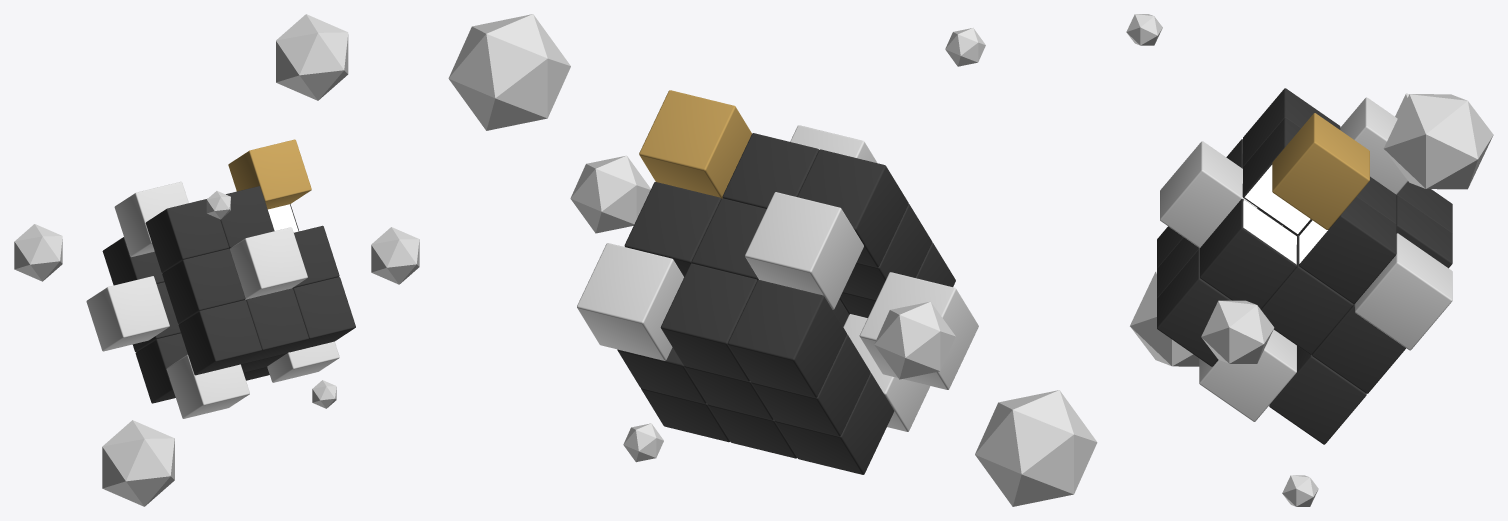
Rendered from app_scene.gltf.
3 renders of one model, left to right at view 1: azimuth 30°, elevation 25°; view 2: azimuth 150°, elevation 25°; view 3: azimuth 270°, elevation 25°, orthographic. The views are drawn at different scales.
Parts seen in each view (by area): view 1: ChamferBox184, Hedra001.002, Hedra001.004, ChamferBox187, ChamferBox183, ChamferBox182, ChamferBox185, ChamferBox188, Hedra001.001, Hedra001.005, ChamferBox186, Group60444 (+2 smaller); view 2: ChamferBox184, Hedra001.002, Hedra001.004, ChamferBox188, ChamferBox189, ChamferBox182, ChamferBox187, Hedra001.005, Hedra001.001, ChamferBox185, ChamferBox183, Hedra001 (+1 smaller); view 3: ChamferBox184, Hedra001.004, ChamferBox182, ChamferBox189, ChamferBox183, ChamferBox186, Group60444, Hedra001.001, ChamferBox188, Hedra001.002, Hedra001.003, Hedra001.
Part boxes in pixels (x1,y1,x2,y2): ChamferBox184: (102, 186, 355, 403); Hedra001.002: (102, 420, 174, 506); Hedra001.004: (276, 14, 348, 100); ChamferBox187: (86, 276, 169, 351); ChamferBox183: (230, 227, 307, 299); ChamferBox182: (228, 139, 311, 209); ChamferBox185: (166, 354, 249, 418); ChamferBox188: (114, 181, 188, 257); Hedra001.001: (371, 227, 419, 284); Hedra001.005: (14, 224, 62, 281); ChamferBox186: (267, 341, 339, 382); Group60444: (268, 204, 298, 232); ChamferBox184: (617, 133, 955, 474); Hedra001.002: (975, 390, 1097, 506); Hedra001.004: (448, 14, 570, 130); ChamferBox188: (745, 192, 863, 309); ChamferBox189: (577, 243, 683, 360); ChamferBox182: (639, 90, 751, 198); ChamferBox187: (859, 272, 978, 389); Hedra001.005: (874, 301, 955, 379); Hedra001.001: (570, 155, 650, 233); ChamferBox185: (843, 314, 930, 431); ChamferBox183: (790, 125, 877, 163); Hedra001: (945, 28, 985, 66); ChamferBox184: (1157, 88, 1452, 444); Hedra001.004: (1383, 94, 1493, 189); ChamferBox182: (1272, 113, 1369, 229); ChamferBox189: (1355, 233, 1452, 350); ChamferBox183: (1160, 141, 1257, 247); ChamferBox186: (1199, 329, 1296, 421); Group60444: (1243, 165, 1327, 264); Hedra001.001: (1201, 300, 1274, 363); ChamferBox188: (1340, 97, 1407, 194); Hedra001.002: (1130, 271, 1199, 366); Hedra001.003: (1282, 475, 1318, 506); Hedra001: (1126, 14, 1162, 45).
Bounding box in the file's own units: 309 × 298 × 227.
